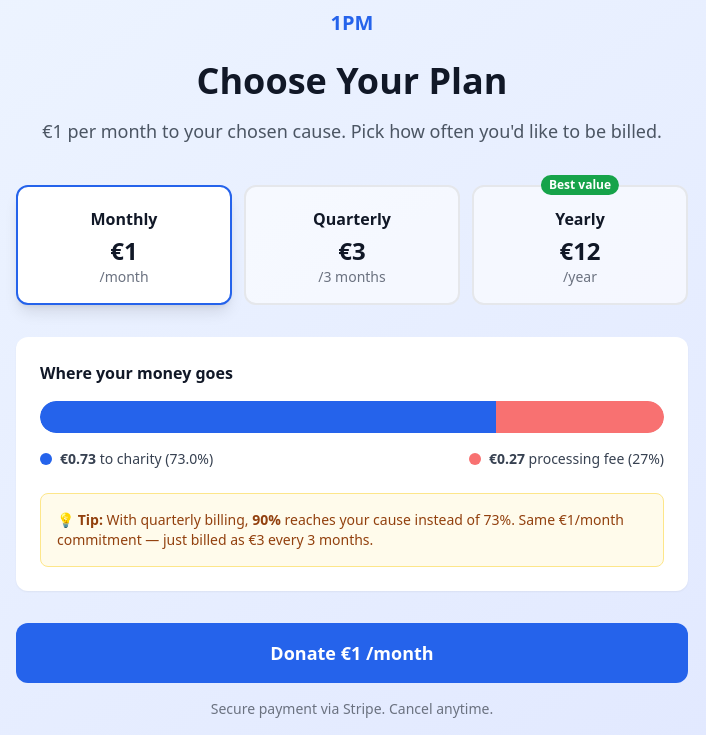
Test: Donate page › updates fee display when selecting yearly
Click the text "Yearly". click: point(580, 219)
box: [555,208,605,230]
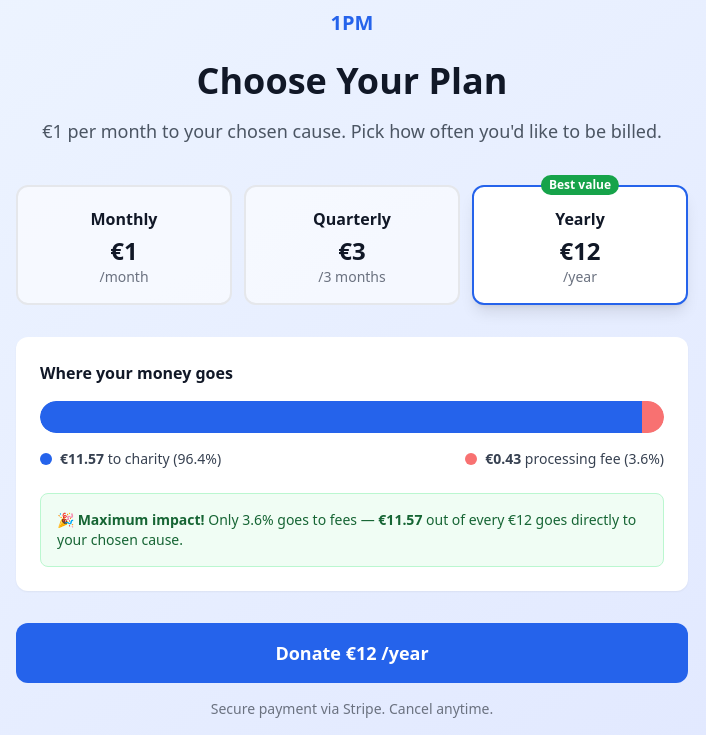
Expected: the button "Donate €12 /year" is shown, [16,623,688,683]
Expected: the text "Maximum impact!" is shown, [78,510,205,529]
